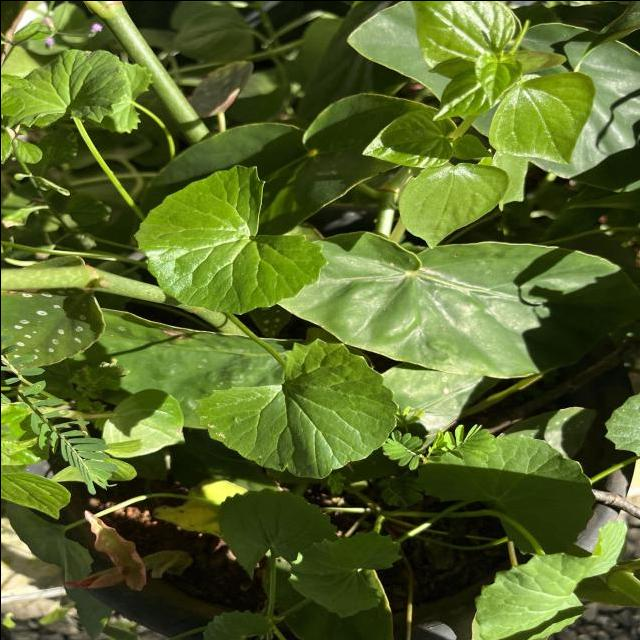Centella asiatica: (130, 161, 330, 318), (189, 334, 400, 480)
